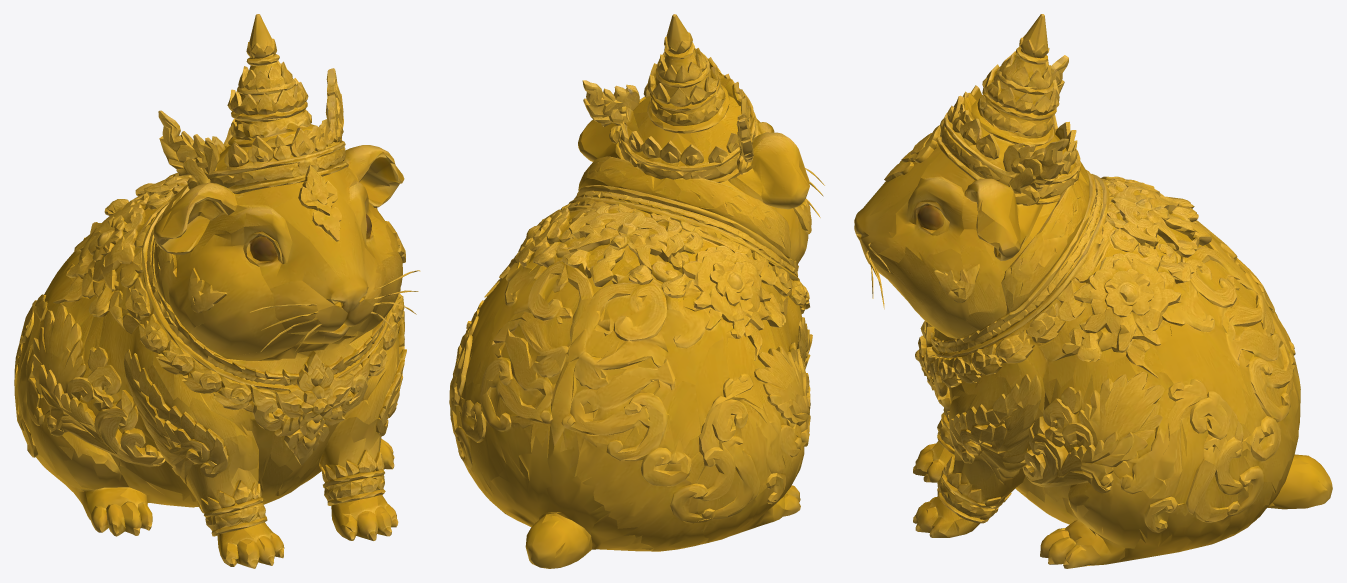
File: fri.glb
3 views of the same model, side by side, from view 1: azimuth 30°, elevation 25°; view 2: azimuth 150°, elevation 25°; view 3: azimuth 270°, elevation 25° (orthographic). The views are drawn at different scales.
Visible parts, largest first — view 1: Mesh_0; view 2: Mesh_0; view 3: Mesh_0.
Boxes of the visible parts, x1,y1,x2,y2 form: Mesh_0: (14, 14, 420, 568); Mesh_0: (449, 14, 824, 568); Mesh_0: (854, 14, 1332, 568).
Bounding box in the file's own units: 1.45 × 1.9 × 1.7.
Materials: 1 (1 with a texture image).
